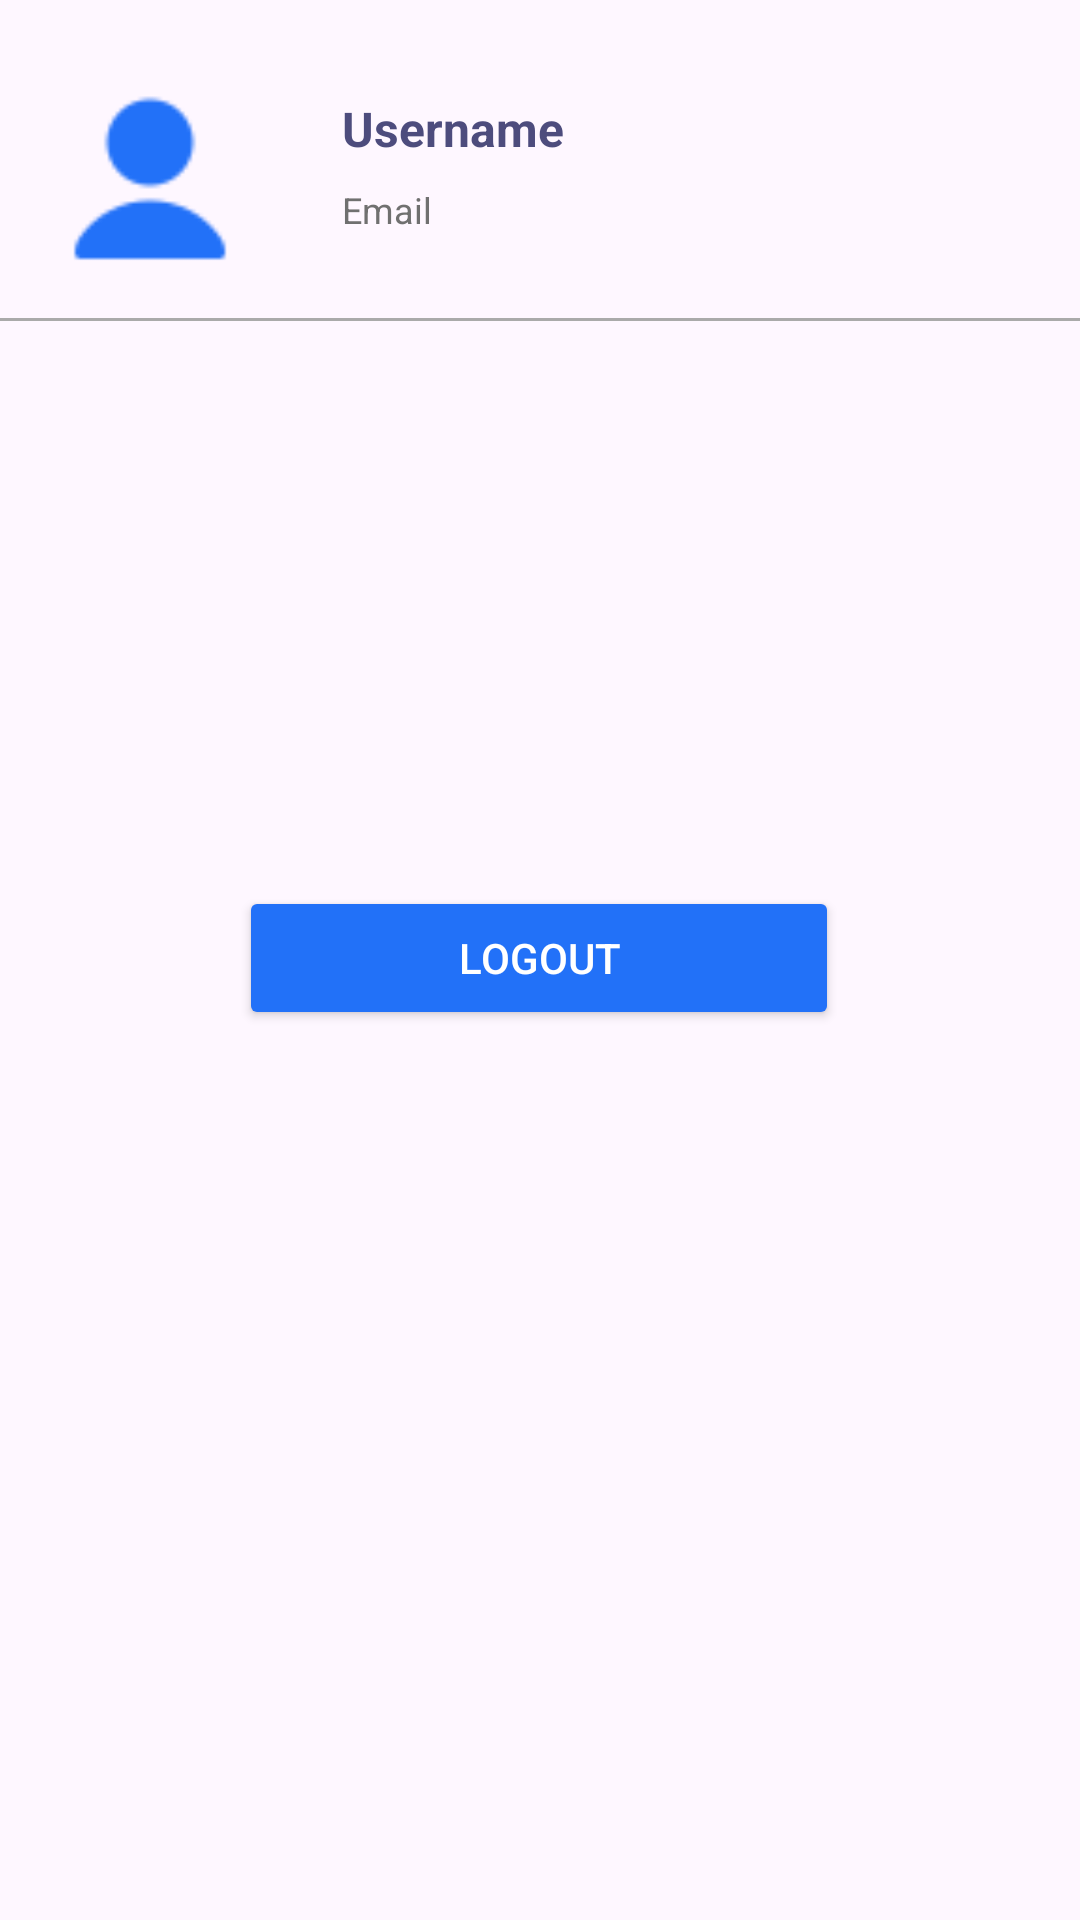

Icon click points for this 1080 × 1920 phone screenshot, format point (x, y):
person: point (150, 178)
